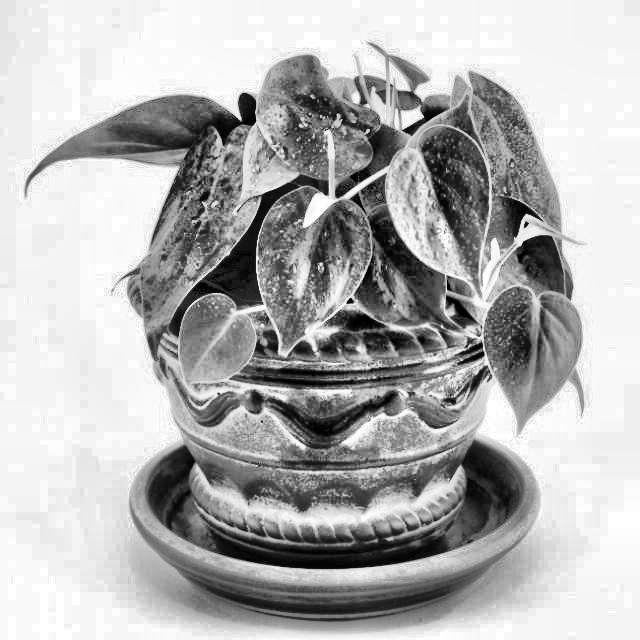plants: (19, 48, 603, 587)
